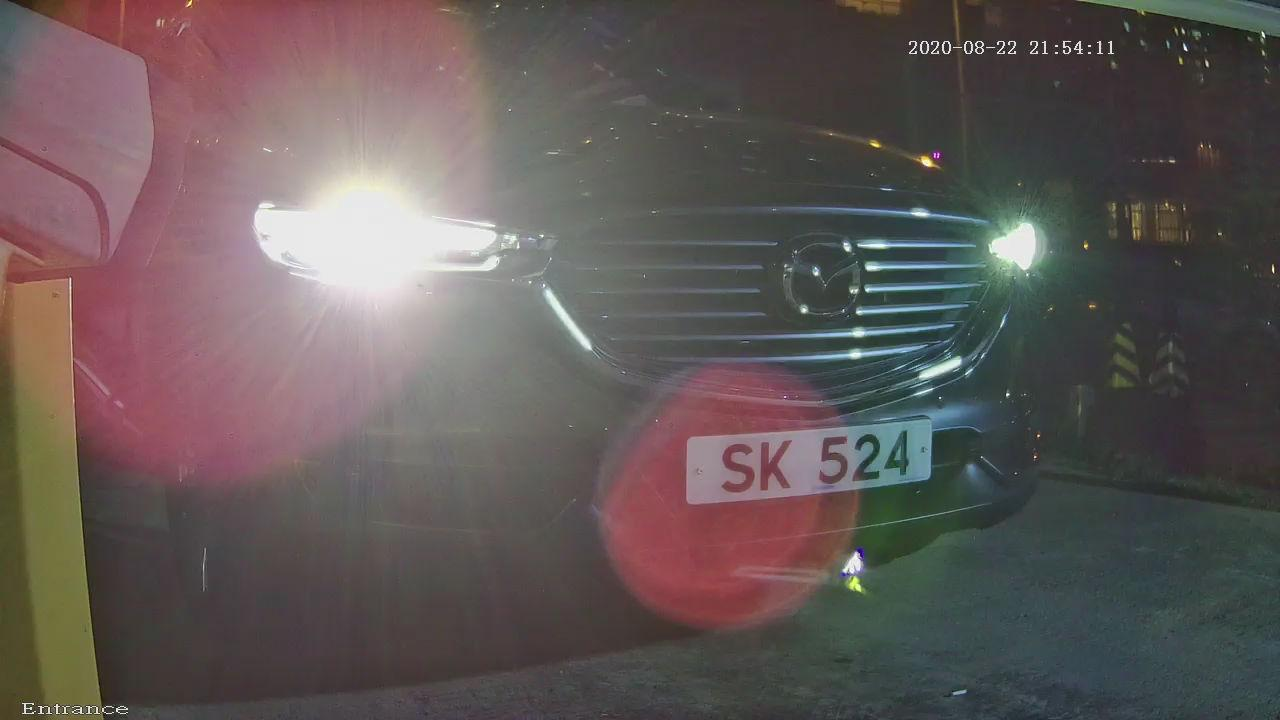Car: (23, 23, 1195, 682)
License Plate: (592, 358, 1004, 567)
